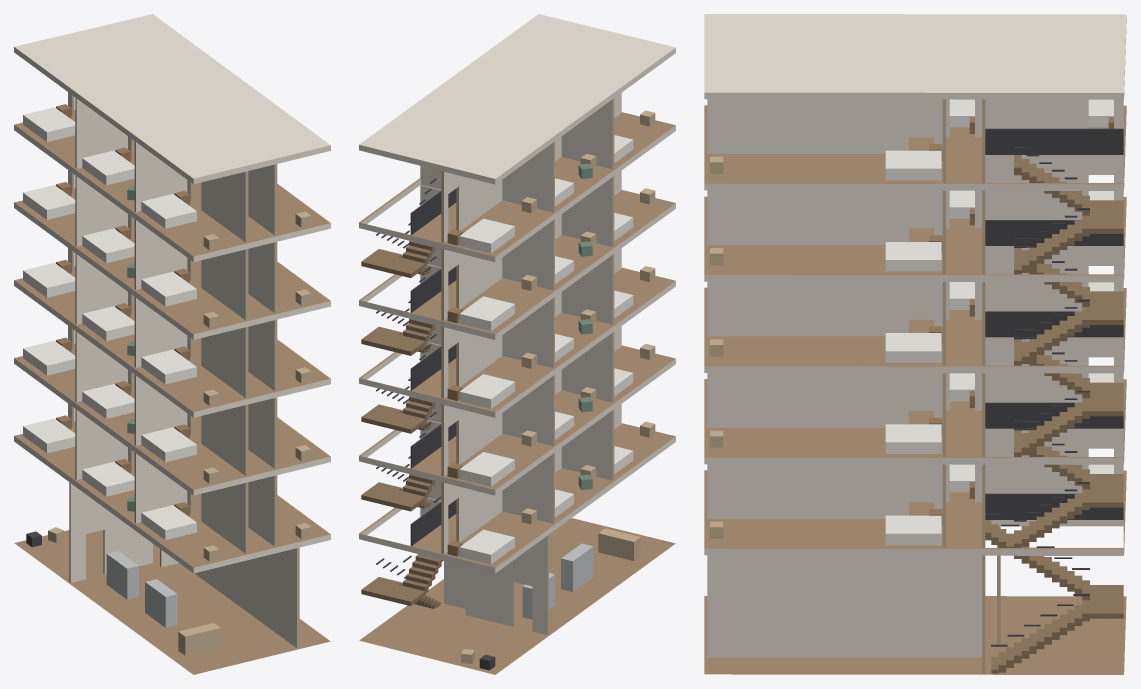
The model's file is interior.glb.
3 renders of one model, left to right at view 1: azimuth 30°, elevation 25°; view 2: azimuth 150°, elevation 25°; view 3: azimuth 270°, elevation 25°, orthographic. The views are drawn at different scales.
Visible parts, largest first — view 1: slabs, partitions, coarse-s1, coarse-s4, coarse-s2, coarse-s3, coarse-s5, coarse-s0; view 2: slabs, partitions, stair, coarse-s0, coarse-s2, coarse-s4, coarse-s5, coarse-s1, coarse-s3; view 3: partitions, slabs, stair, coarse-s5, coarse-s1, coarse-s4, coarse-s2, coarse-s3.
Part boxes in pixels (x1,y1,x2,y2): slabs: (14, 14, 330, 674); partitions: (68, 92, 299, 648); coarse-s1: (23, 415, 311, 561); coarse-s4: (23, 182, 311, 327); coarse-s2: (23, 337, 311, 483); coarse-s3: (23, 260, 311, 405); coarse-s5: (23, 104, 311, 250); coarse-s0: (26, 527, 220, 655); slabs: (359, 14, 675, 674); partitions: (420, 93, 621, 635); stair: (361, 178, 456, 608); coarse-s0: (461, 528, 640, 670); coarse-s2: (447, 343, 655, 486); coarse-s4: (447, 188, 655, 331); coarse-s5: (447, 110, 655, 253); coarse-s1: (447, 421, 655, 564); coarse-s3: (447, 266, 655, 408); partitions: (707, 99, 1123, 673); slabs: (704, 14, 1126, 674); stair: (985, 128, 1123, 673); coarse-s5: (710, 99, 1113, 180); coarse-s1: (710, 464, 1113, 545); coarse-s4: (710, 190, 1113, 271); coarse-s2: (710, 373, 1113, 453); coarse-s3: (710, 282, 1113, 362).
Size of the model in its own units: 6.65 by 22.83 by 15.
